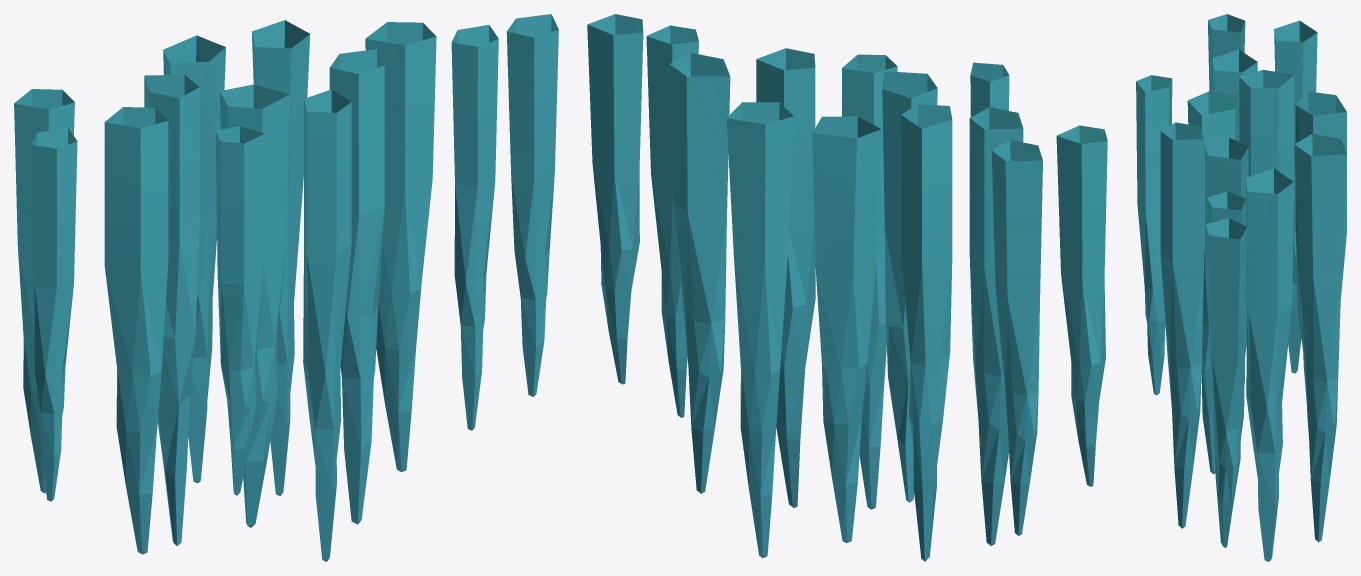
File: iceTrap.fbx
3 views of the same model, side by side, from view 1: azimuth 30°, elevation 25°; view 2: azimuth 150°, elevation 25°; view 3: azimuth 270°, elevation 25° (orthographic). The views are drawn at different scales.
Parts seen in each view (by area): view 1: iceTrap; view 2: iceTrap; view 3: iceTrap.
Boxes of the visible parts, box(x1,y1,x2,y2) form: iceTrap: box(14, 14, 558, 561); iceTrap: box(587, 14, 1107, 561); iceTrap: box(1136, 14, 1346, 561).
Bounding box in the file's own units: 7.14 × 6.06 × 2.86.
1 material, 1 textured.
